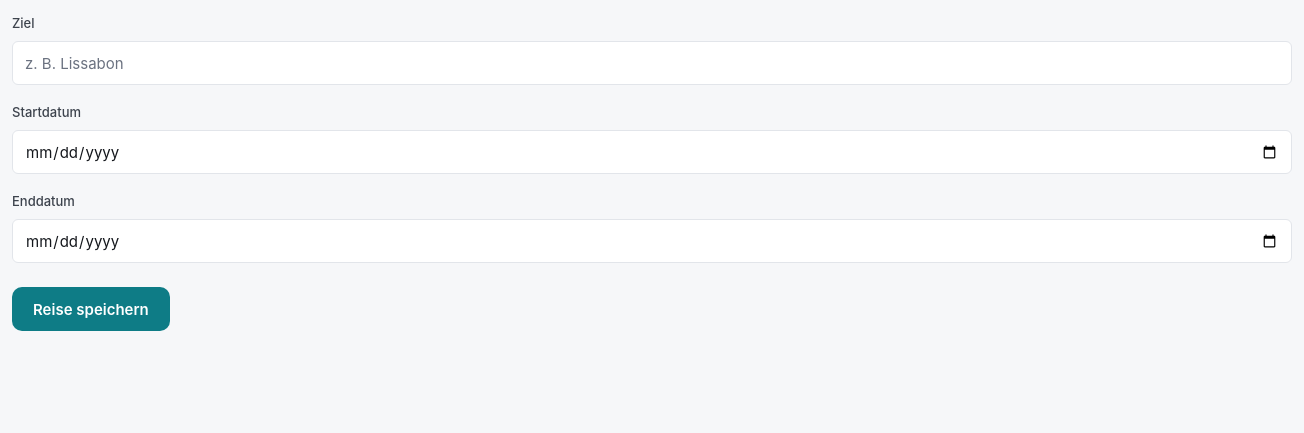
Test case: TripForm › shows the errors after submitting an empty form and stores nothing
The image size is (1304, 433).
Click the button "Reise speichern".
click(91, 309)  # box [12,287,170,331]
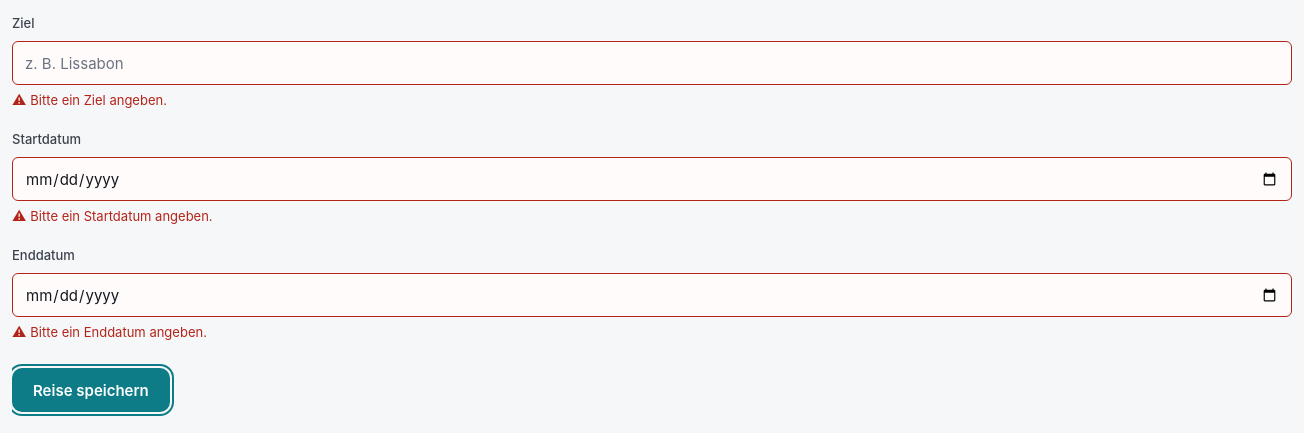
Expected: the text "Bitte ein Ziel angeben." is shown, [30,92,167,108]
Expected: the text "Bitte ein Startdatum angeben." is shown, [30,208,213,224]
Expected: the text "Bitte ein Enddatum angeben." is shown, [30,324,207,340]
